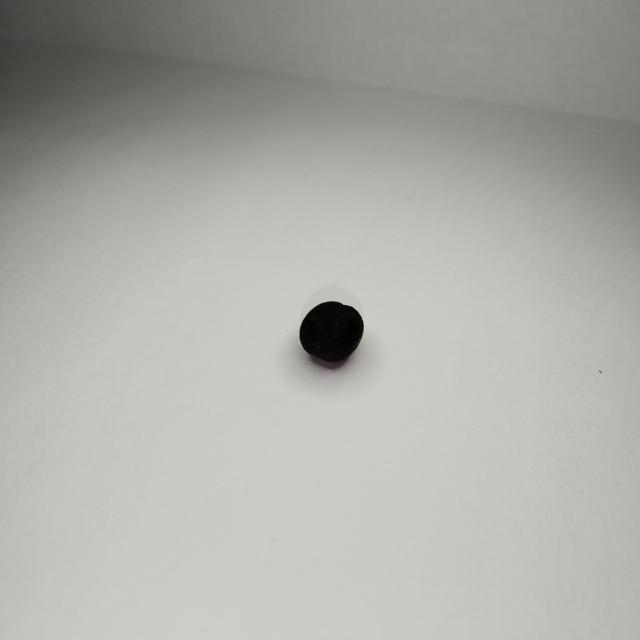Danado: (301, 302, 364, 357)
